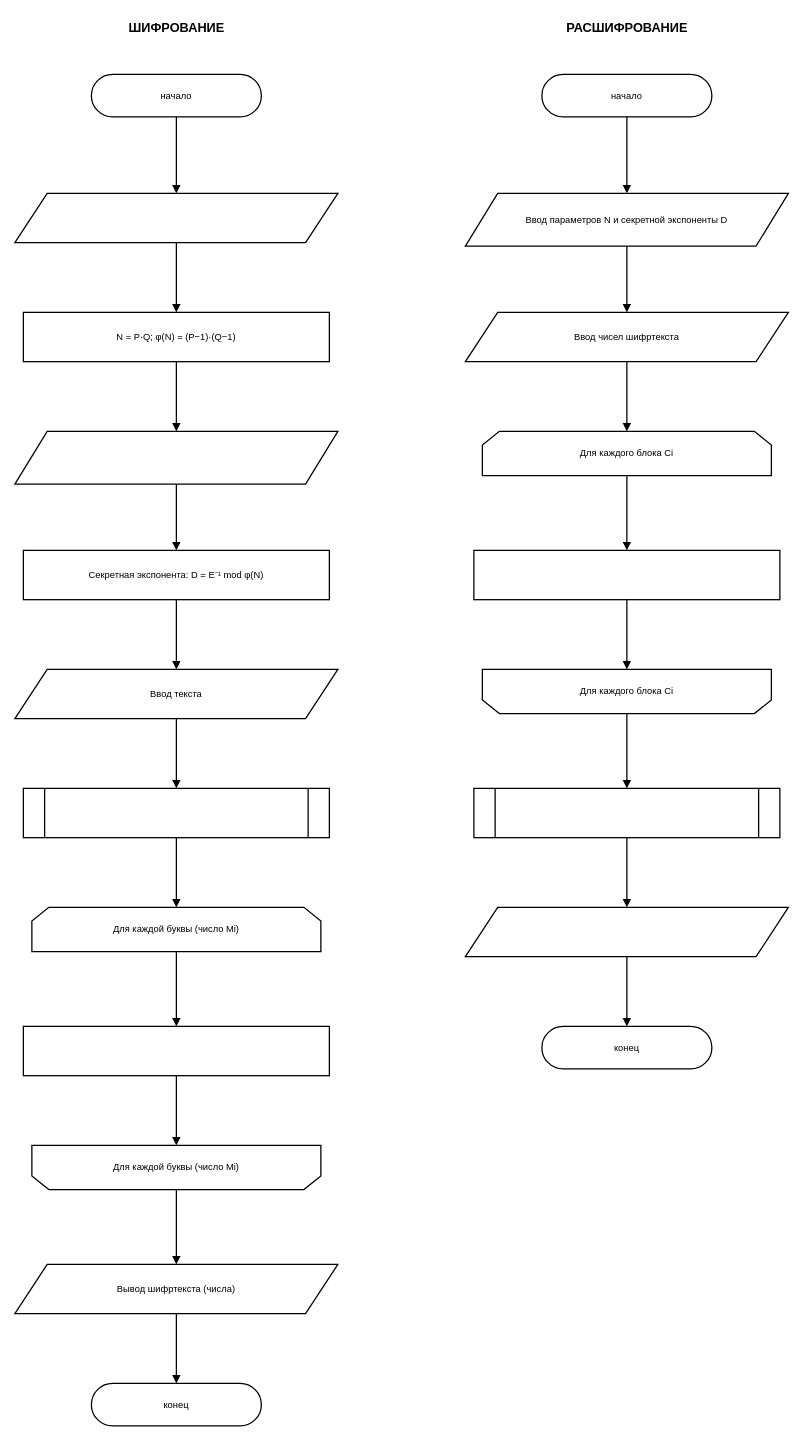
The diagram is 804 pixels wide and 1441 high, and some of its shapes have lost their labels. The centre of each missing label's shape, as x and y in pixels:
Ci = Mi^E mod N: (176,1050)
Mi = Ci^D mod N: (626,574)
Ввод открытой экспоненты E (взаимно простой с φ(N)): (176,457)
Ввод простых чисел P и Q: (176,217)
Восстановление спецсимволов: (626,812)
Вывод открытого текста: (626,931)
Замена спецсимволов кодами: (176,812)
